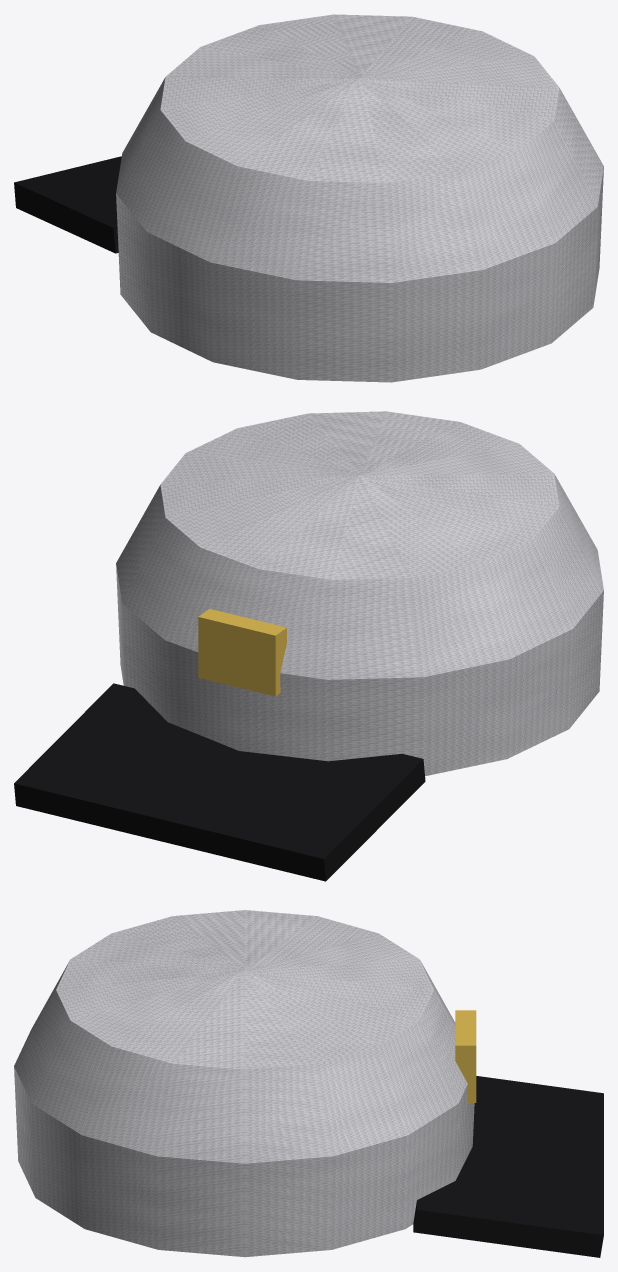
Rendered from acc_guard_cap.obj.
3 renders of one model, top to bottom at view 1: azimuth 30°, elevation 25°; view 2: azimuth 150°, elevation 25°; view 3: azimuth 270°, elevation 25°, orthographic. The views are drawn at different scales.
Visible parts, largest first — view 1: acc_guard_cap; view 2: acc_guard_cap; view 3: acc_guard_cap.
Boxes of the visible parts, bbox=[...] form: acc_guard_cap: bbox=[14, 14, 603, 382]; acc_guard_cap: bbox=[14, 411, 603, 881]; acc_guard_cap: bbox=[14, 910, 603, 1257].
Size of the model in its own units: 0.22 by 0.1134 by 0.2808.
3 materials, 1 textured.
